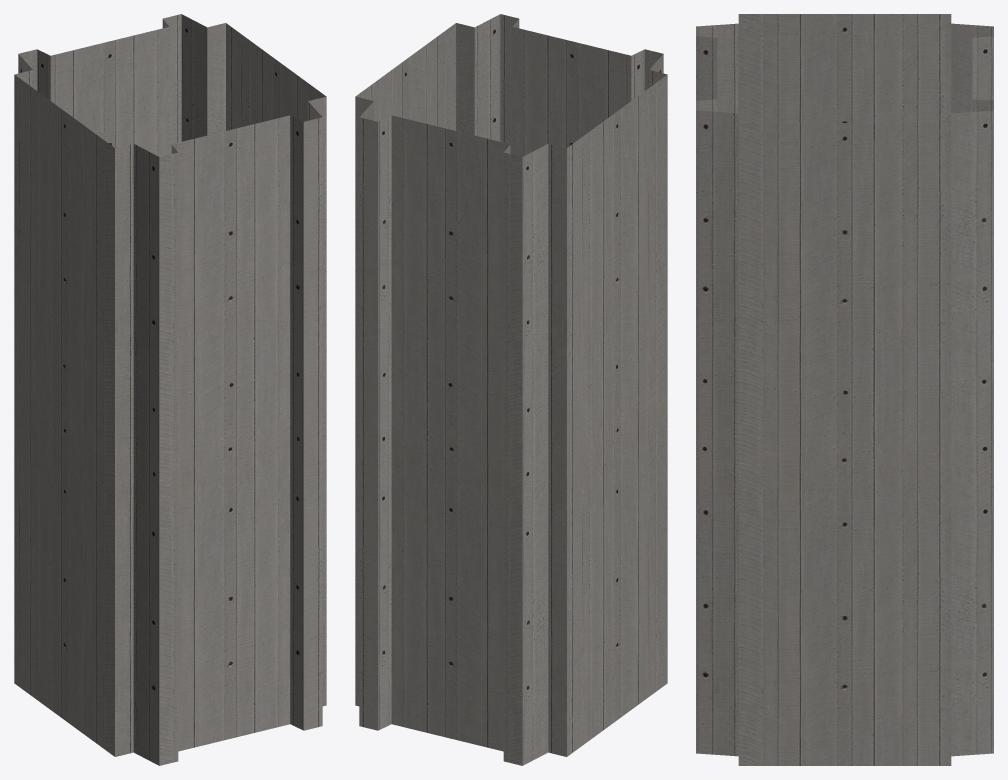
Rendered from Support_mid.fbx.
3 renders of one model, left to right at view 1: azimuth 30°, elevation 25°; view 2: azimuth 150°, elevation 25°; view 3: azimuth 270°, elevation 25°, orthographic. The views are drawn at different scales.
Visible parts, largest first — view 1: Empty_Mesh; view 2: Empty_Mesh; view 3: Empty_Mesh.
Part boxes in pixels (bbox=[...]): Empty_Mesh: bbox=[14, 14, 326, 765]; Empty_Mesh: bbox=[355, 14, 667, 765]; Empty_Mesh: bbox=[696, 14, 993, 765].
Size of the model in its own units: 3.64 by 10 by 4.2.
